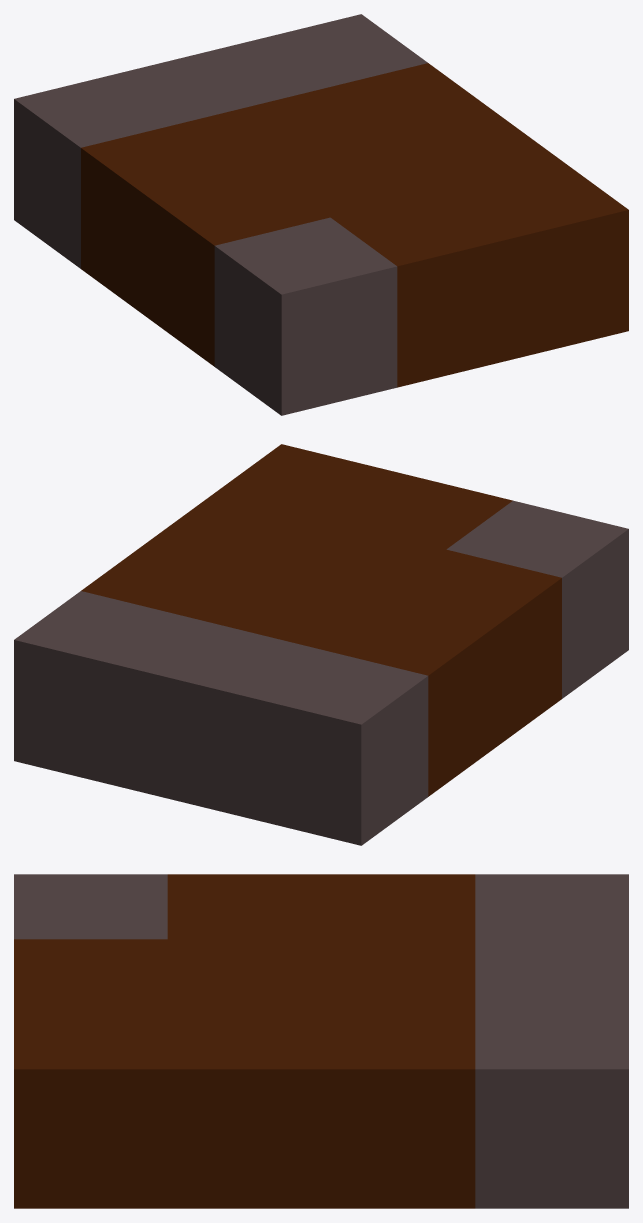
The model's file is CMU3DWornCigarMask.glb.
3 renders of one model, top to bottom at view 1: azimuth 30°, elevation 25°; view 2: azimuth 150°, elevation 25°; view 3: azimuth 270°, elevation 25°, orthographic. The views are drawn at different scales.
Parts seen in each view (by area): view 1: source volume 2, source volume 4, source volume 3, source volume 1; view 2: source volume 3, source volume 2, source volume 1, source volume 4; view 3: source volume 2, source volume 3, source volume 4, source volume 1.
Part boxes in pixels (x1=…): source volume 2: x1=81, y1=63, x2=561, y2=366; source volume 4: x1=330, y1=161, x2=628, y2=387; source volume 3: x1=14, y1=14, x2=427, y2=268; source volume 1: x1=214, y1=217, x2=397, y2=415; source volume 3: x1=14, y1=591, x2=428, y2=845; source volume 2: x1=81, y1=493, x2=561, y2=796; source volume 1: x1=446, y1=500, x2=628, y2=698; source volume 4: x1=215, y1=444, x2=512, y2=549; source volume 2: x1=167, y1=874, x2=475, y2=1208; source volume 3: x1=475, y1=874, x2=628, y2=1208; source volume 4: x1=14, y1=939, x2=167, y2=1208; source volume 1: x1=14, y1=874, x2=167, y2=939.
Size of the model in its own units: 0.15 by 0.05 by 0.2.
